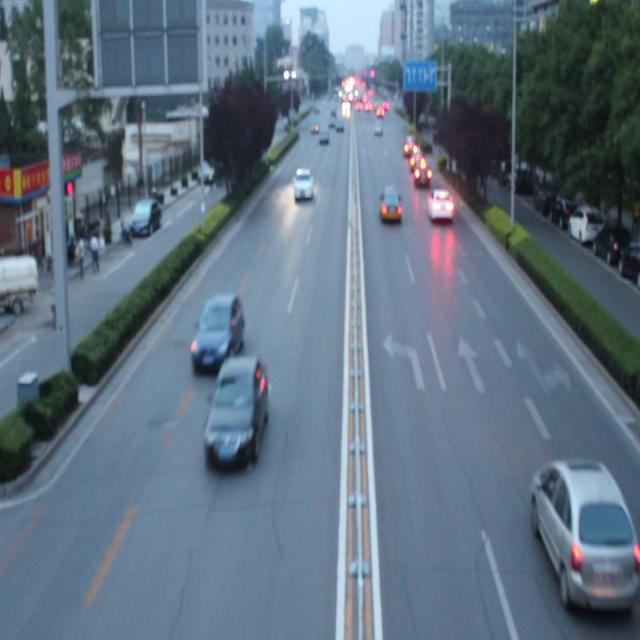car: (532, 455, 640, 607), (205, 355, 267, 464), (191, 291, 244, 370), (427, 184, 452, 220), (378, 187, 402, 224), (292, 167, 313, 202), (412, 158, 432, 187)
